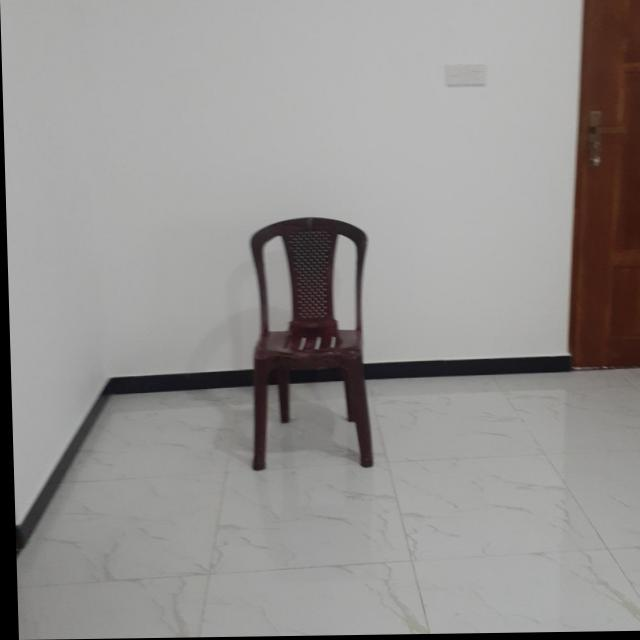Chair: (241, 217, 370, 473)
